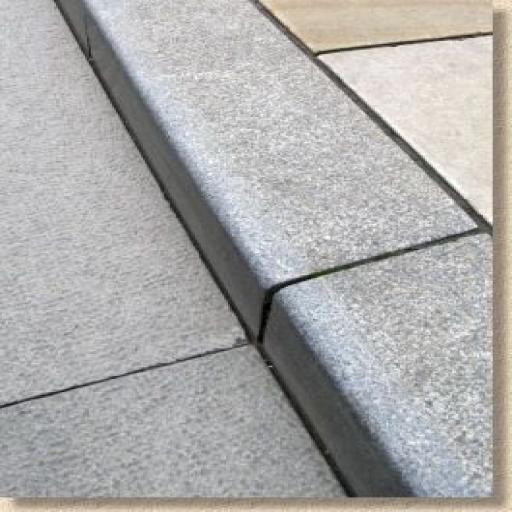construction_fence: (58, 0, 494, 498)
